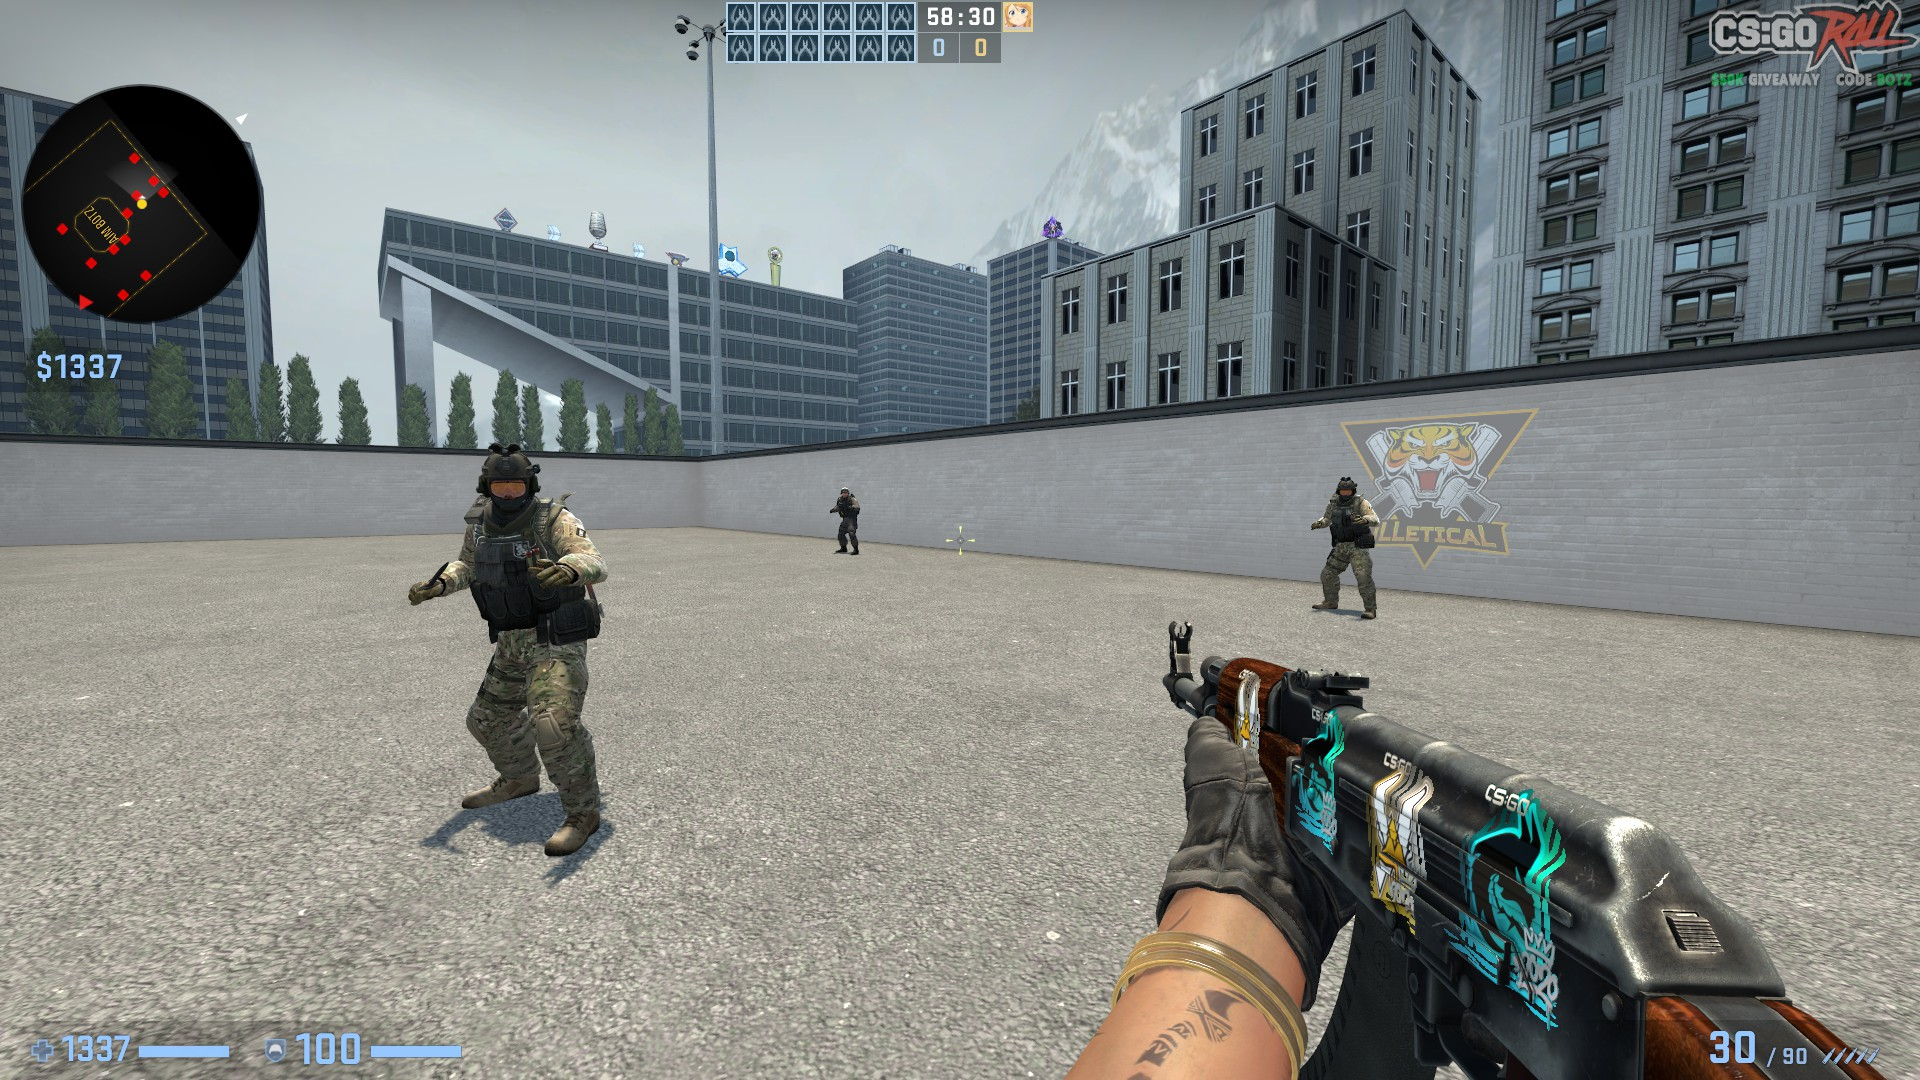head: (475, 444, 537, 516), (1334, 475, 1355, 503), (839, 488, 845, 495)
